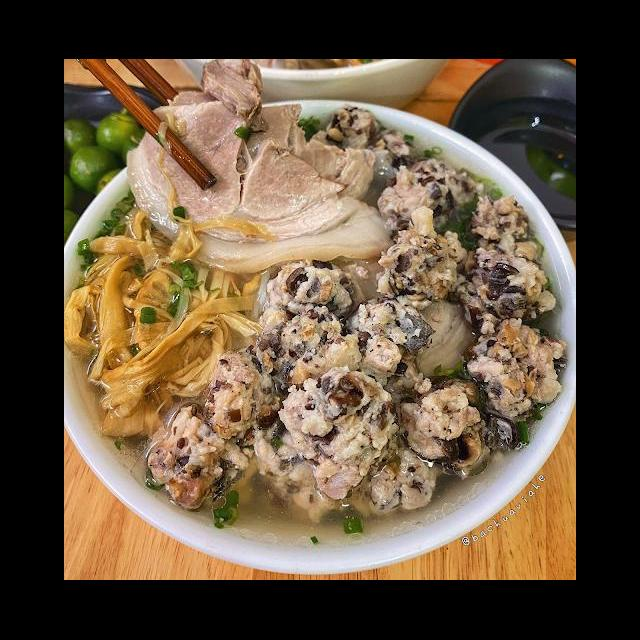thit heo: (122, 63, 397, 280), (158, 85, 380, 216)
vien moc: (264, 358, 406, 508), (133, 402, 255, 512), (460, 308, 570, 428), (390, 374, 504, 484), (436, 240, 561, 338), (370, 202, 474, 314), (370, 153, 487, 240), (460, 194, 550, 272)
